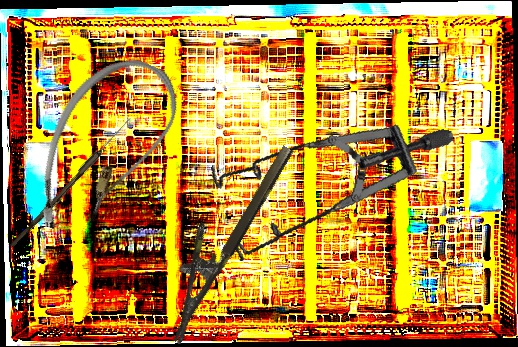Cannula: (18, 40, 192, 257)
Needle Holder: (141, 129, 296, 345)
Speculum: (192, 80, 456, 302)
Surgical Spoon: (9, 115, 133, 251)
